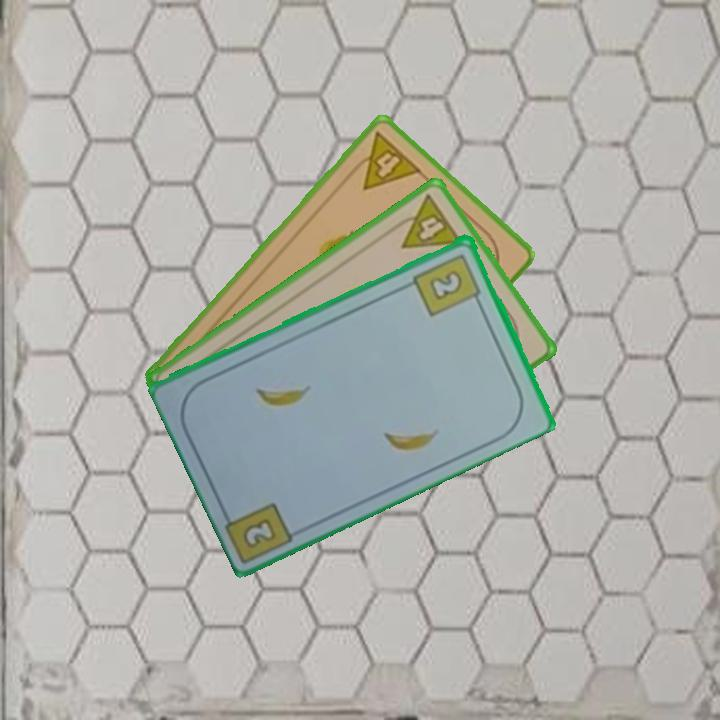2b: (219, 498, 299, 564), (410, 249, 484, 319)
4p: (344, 127, 425, 193), (386, 191, 466, 252)
